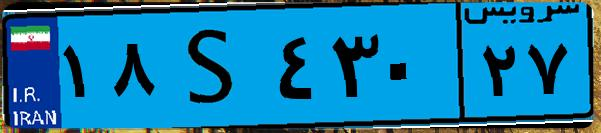0: (385, 28, 445, 110)
1: (57, 26, 110, 100)
2: (475, 38, 525, 113)
3: (330, 28, 385, 110)
4: (270, 28, 330, 110)
7: (525, 38, 570, 115)
8: (110, 28, 158, 98)
S: (158, 12, 270, 120)
